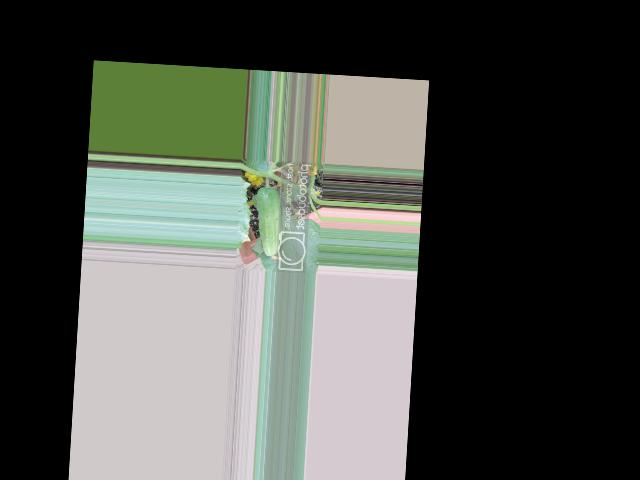cucumber: (253, 187, 285, 257)
